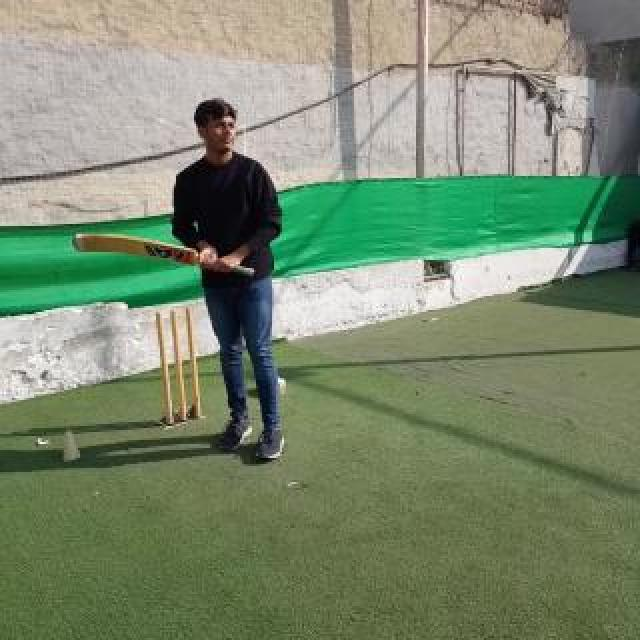bat: (72, 232, 256, 274)
